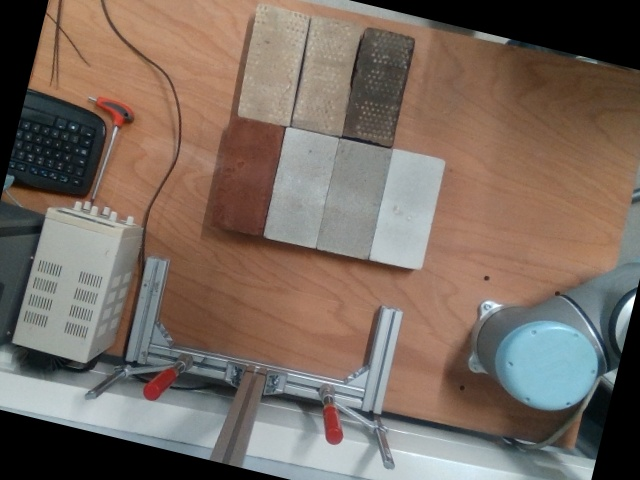brick: (319, 140, 389, 256), (266, 128, 335, 245), (239, 7, 308, 124), (344, 30, 412, 143), (211, 121, 278, 231), (294, 18, 359, 131), (374, 153, 440, 264)
